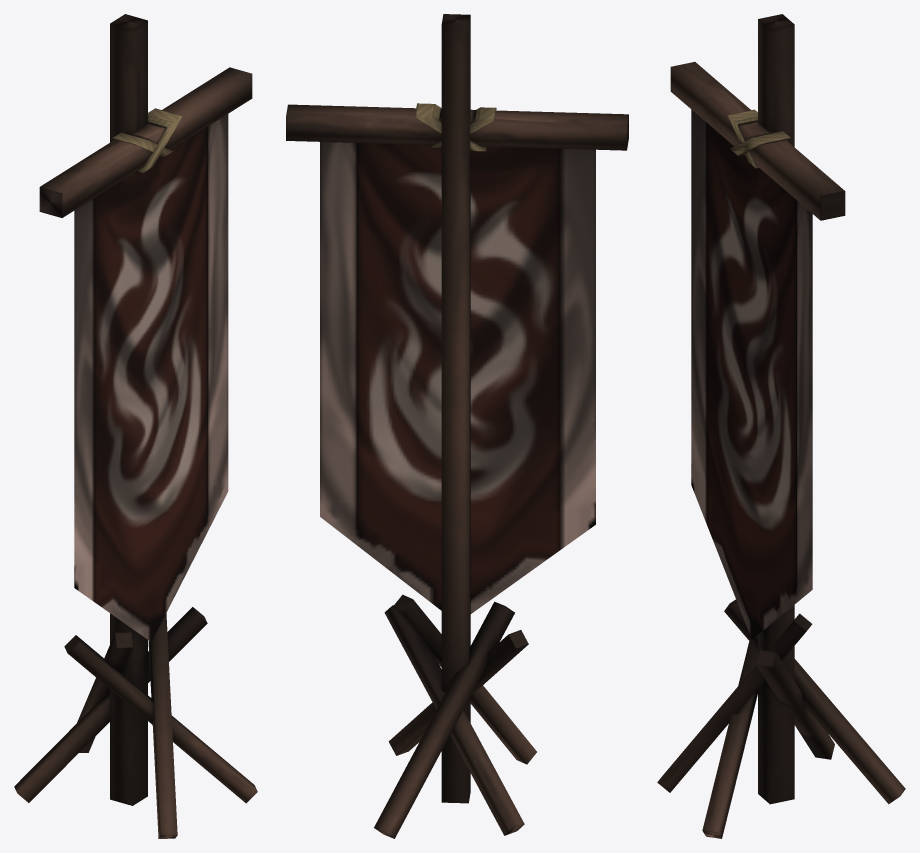
File: shop banner_warrior.fbx
3 views of the same model, side by side, from view 1: azimuth 30°, elevation 25°; view 2: azimuth 150°, elevation 25°; view 3: azimuth 270°, elevation 25° (orthographic).
Visible parts, largest first — view 1: Banner; view 2: Banner; view 3: Banner.
Boxes of the visible parts, box(x1,y1,x2,y2) form: Banner: box(14, 14, 257, 838); Banner: box(286, 14, 628, 838); Banner: box(657, 14, 905, 838).
Size of the model in its own units: 1.22 by 3.29 by 0.9577.
